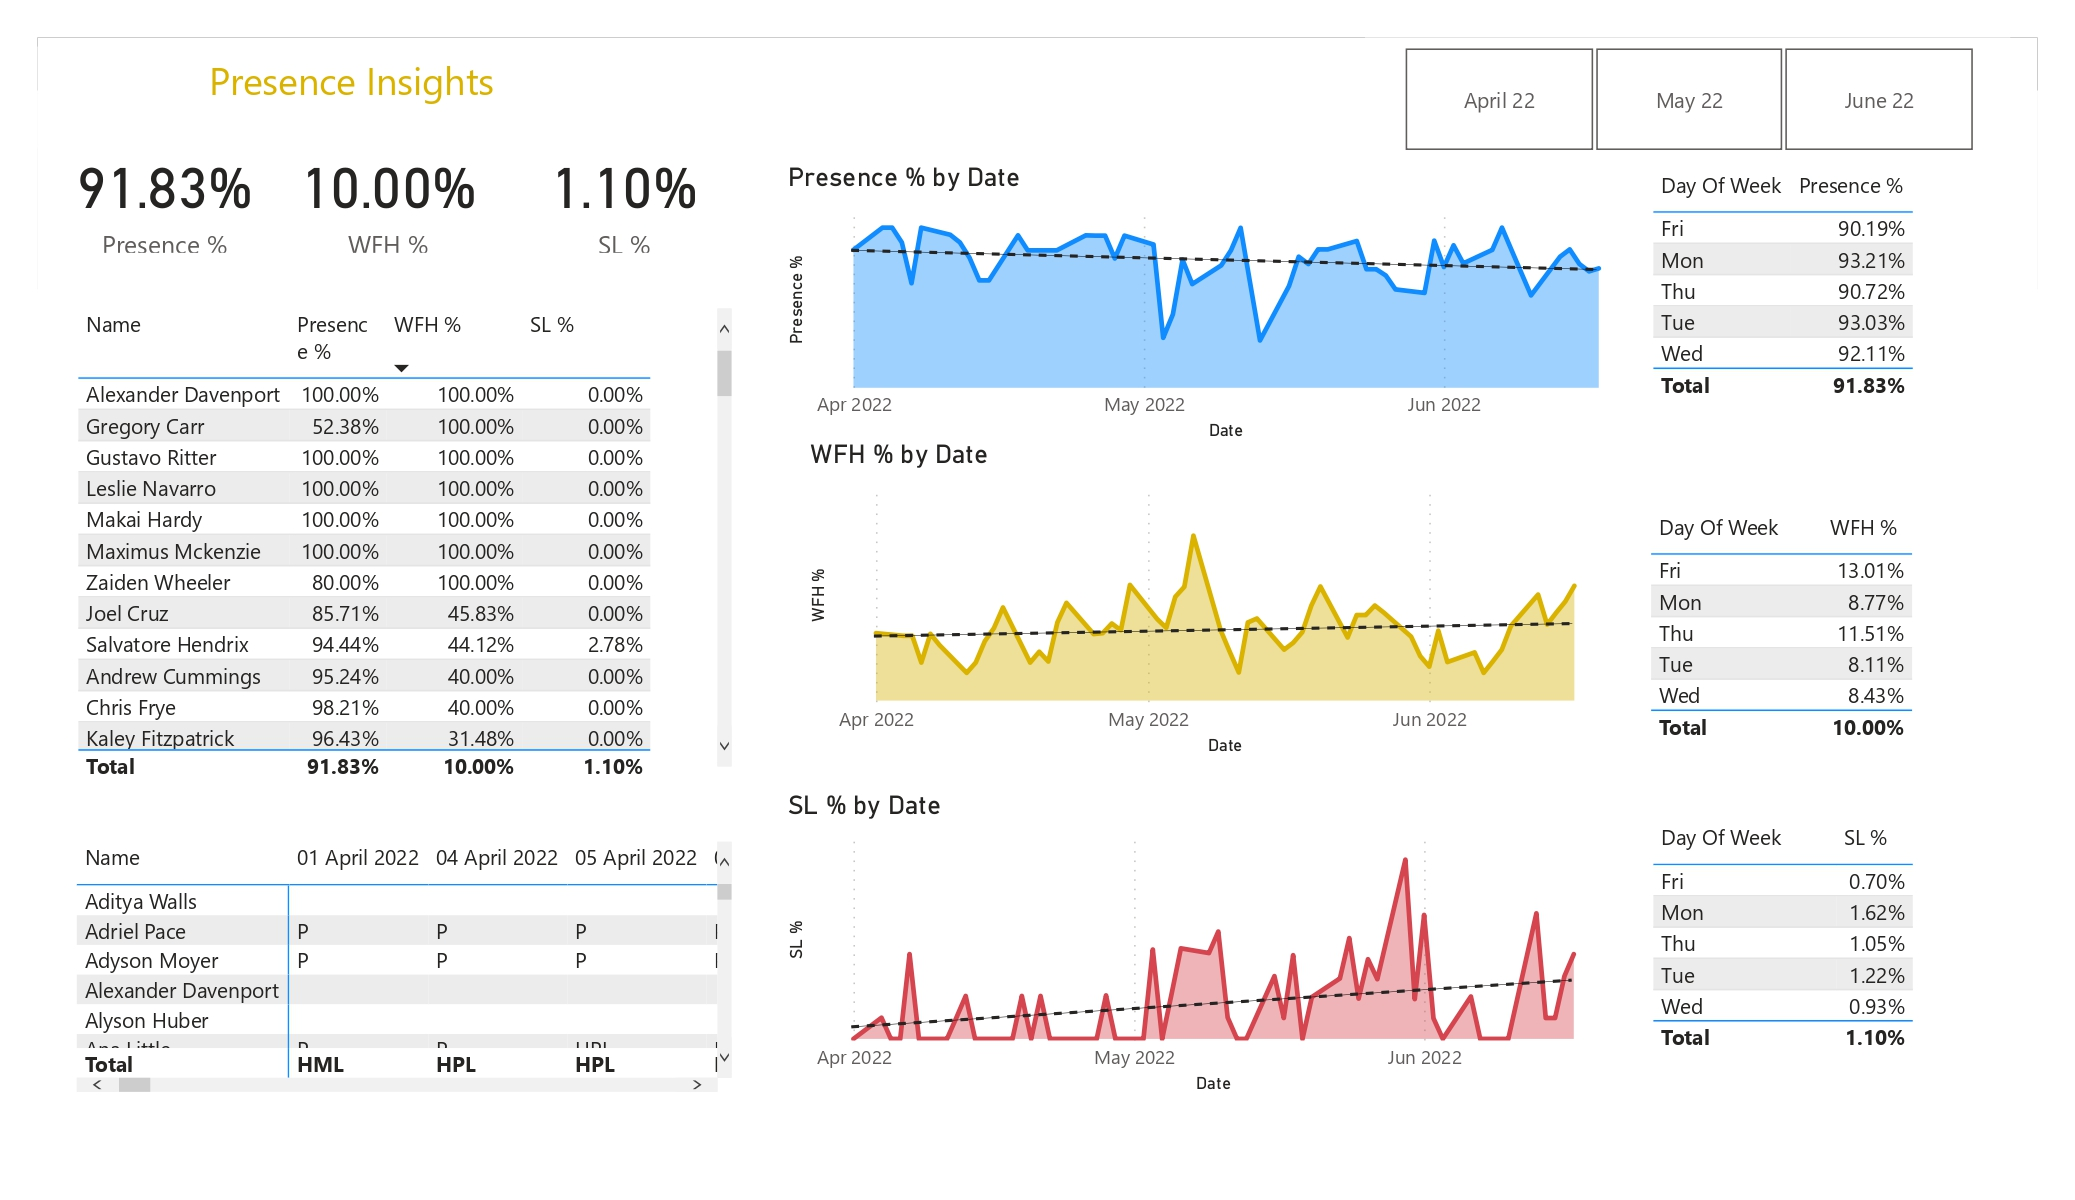

Layout of this report page (visuals, bound fields, positions):
{"tool":"powerbi","page":{"name":"Page 1","canvas":[1280,720],"ordinal":0},"visuals":[{"type":"card","fields":{"Values":["Measure Table.Presence %"]},"box":[7.2,64.8,148.3,77.8],"z":0},{"type":"slicer","fields":{"Values":["Final Data.Month"]},"box":[850,0,413.2,79],"z":1000},{"type":"card","fields":{"Values":["Measure Table.WFH %"]},"box":[145.4,64.8,158.4,77.8],"z":2000},{"type":"card","fields":{"Values":["Measure Table.SL %"]},"box":[303.8,64.8,142.6,77.8],"z":3000},{"type":"tableEx","fields":{"Values":["Final Data.Name","Measure Table.Presence %","Measure Table.WFH %","Measure Table.SL %"]},"box":[20.2,168.5,429.1,312.5],"z":4000},{"type":"textbox","box":[0,5.8,401.8,64.8],"z":5000},{"type":"pivotTable","fields":{"Rows":["Final Data.Name"],"Values":["Min(Final Data.Value)"],"Columns":["Final Data.Date"]},"box":[20.2,509.8,429.1,169.9],"z":6000},{"type":"areaChart","fields":{"Category":["Final Data.Date"],"Y":["Measure Table.Presence %"]},"box":[475.2,79.2,553,182.9],"z":7000},{"type":"areaChart","fields":{"Category":["Final Data.Date"],"Y":["Measure Table.WFH %"]},"box":[489.6,256.3,522.7,207.4],"z":8000},{"type":"areaChart","fields":{"Category":["Final Data.Date"],"Y":["Measure Table.SL %"]},"box":[475.2,481,537.1,198.7],"z":9000},{"type":"tableEx","fields":{"Values":["Final Data.Day Of Week","Measure Table.Presence %"]},"box":[1028.2,79.2,211.7,182.9],"z":10000},{"type":"tableEx","fields":{"Values":["Final Data.Day Of Week","Measure Table.WFH %"]},"box":[1026.7,298.1,213.1,182.9],"z":11000},{"type":"tableEx","fields":{"Values":["Final Data.Day Of Week","Measure Table.SL %"]},"box":[1028.2,496.8,211.7,182.9],"z":12000}]}

Visuals, with their boxes on the page's 1280x720 design canvas (x1, y1, x2, y2). These are canvas units, not pixel positions in the 2075x1200 screenshot, which may show the page scaled, cropped or inside an application window:
card - Measure Table.Presence %: 7,65,156,143
slicer - Final Data.Month: 850,0,1263,79
card - Measure Table.WFH %: 145,65,304,143
card - Measure Table.SL %: 304,65,446,143
tableEx - Final Data.Name x Measure Table.Presence %: 20,168,449,481
textbox: 0,6,402,71
pivotTable - Final Data.Name x Min(Final Data.Value): 20,510,449,680
areaChart - Final Data.Date x Measure Table.Presence %: 475,79,1028,262
areaChart - Final Data.Date x Measure Table.WFH %: 490,256,1012,464
areaChart - Final Data.Date x Measure Table.SL %: 475,481,1012,680
tableEx - Final Data.Day Of Week x Measure Table.Presence %: 1028,79,1240,262
tableEx - Final Data.Day Of Week x Measure Table.WFH %: 1027,298,1240,481
tableEx - Final Data.Day Of Week x Measure Table.SL %: 1028,497,1240,680
